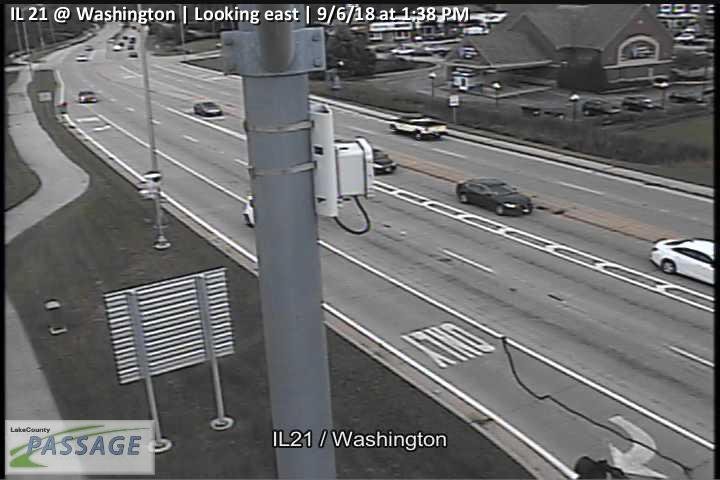Sedan: (650, 235, 716, 284), (456, 176, 533, 216), (388, 111, 447, 141), (582, 97, 621, 119), (620, 95, 657, 111), (191, 99, 224, 116), (76, 90, 98, 103)
